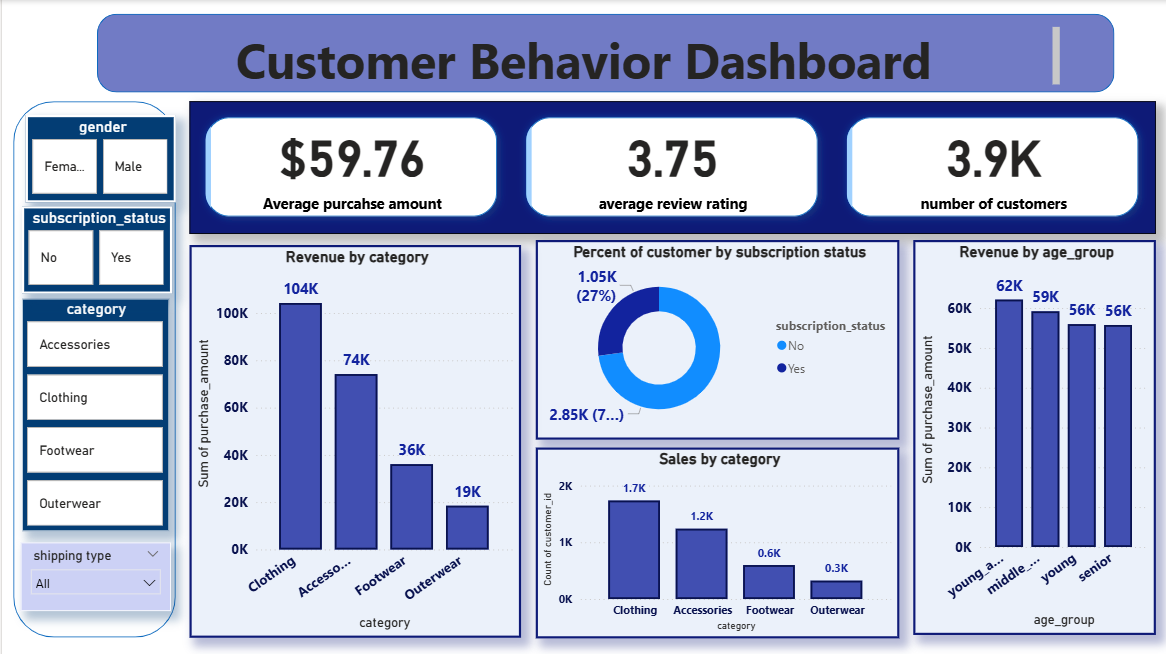

Layout of this report page (visuals, bound fields, positions):
{"tool":"powerbi","page":{"name":"Page 1","canvas":[1280,720],"ordinal":0},"visuals":[{"type":"cardVisual","fields":{"Data":["public customer_cleaned.Average purcahse amount","public customer_cleaned.average review rating","public customer_cleaned.number of customers"]},"box":[205.8,111.1,1060.7,145.5],"z":0},{"type":"shape","box":[104.3,15.1,1117,86.4],"z":1000},{"type":"textbox","box":[118,24.7,1048.4,76.8],"z":2000},{"type":"donutChart","title":"Percent of customer by subscription status","fields":{"Category":["public customer_cleaned.subscription_status"],"Y":["CountNonNull(public customer_cleaned.customer_id)"]},"box":[585.9,263.5,399.3,219.6],"z":3000},{"type":"clusteredColumnChart","title":"Revenue by category","fields":{"Category":["public customer_cleaned.category"],"Y":["Sum(public customer_cleaned.purchase_amount)"]},"box":[205.8,269,363.6,430.9],"z":4000},{"type":"clusteredColumnChart","title":"Sales by category","fields":{"Category":["public customer_cleaned.category"],"Y":["CountNonNull(public customer_cleaned.customer_id)"]},"box":[585.9,491.3,399.3,209.9],"z":5000},{"type":"shape","box":[12.3,111.1,178.4,588.7],"z":6000},{"type":"advancedSlicerVisual","fields":{"Values":["public customer_cleaned.gender"]},"box":[26.1,126.2,164.7,96.1],"z":7000},{"type":"advancedSlicerVisual","fields":{"Values":["public customer_cleaned.category"]},"box":[22,328,161.9,255.2],"z":8000},{"type":"slicer","fields":{"Values":["public customer_cleaned.shipping_type"]},"box":[20.6,595.5,164.7,75.5],"z":9000},{"type":"advancedSlicerVisual","fields":{"Values":["public customer_cleaned.subscription_status"]},"box":[22,226.4,164.7,96.1],"z":10000},{"type":"clusteredColumnChart","title":"Revenue by age_group","fields":{"Y":["Sum(public customer_cleaned.purchase_amount)"],"Category":["public customer_cleaned.age_group"]},"box":[1000.3,263.5,266.2,433.6],"z":11000}]}

Visuals, with their boxes in screenshot pixels (x1, y1, x2, y2), scaled from the page's 1280x720 canvas onto the 1166x654 screenshot:
cardVisual - public customer_cleaned.Average purcahse amount x public customer_cleaned.average review rating: pyautogui.locateOnScreen(187, 101, 1154, 233)
shape: pyautogui.locateOnScreen(95, 14, 1113, 92)
textbox: pyautogui.locateOnScreen(107, 22, 1063, 92)
"Percent of customer by subscription status" donutChart: pyautogui.locateOnScreen(534, 239, 897, 439)
"Revenue by category" clusteredColumnChart: pyautogui.locateOnScreen(187, 244, 519, 636)
"Sales by category" clusteredColumnChart: pyautogui.locateOnScreen(534, 446, 897, 637)
shape: pyautogui.locateOnScreen(11, 101, 174, 636)
advancedSlicerVisual - public customer_cleaned.gender: pyautogui.locateOnScreen(24, 115, 174, 202)
advancedSlicerVisual - public customer_cleaned.category: pyautogui.locateOnScreen(20, 298, 168, 530)
slicer - public customer_cleaned.shipping_type: pyautogui.locateOnScreen(19, 541, 169, 609)
advancedSlicerVisual - public customer_cleaned.subscription_status: pyautogui.locateOnScreen(20, 206, 170, 293)
"Revenue by age_group" clusteredColumnChart: pyautogui.locateOnScreen(911, 239, 1154, 633)
